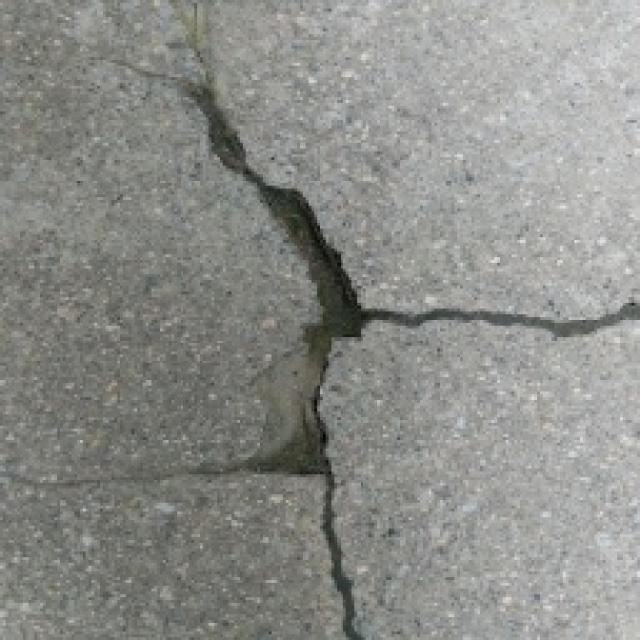crack: (144, 26, 640, 640)
